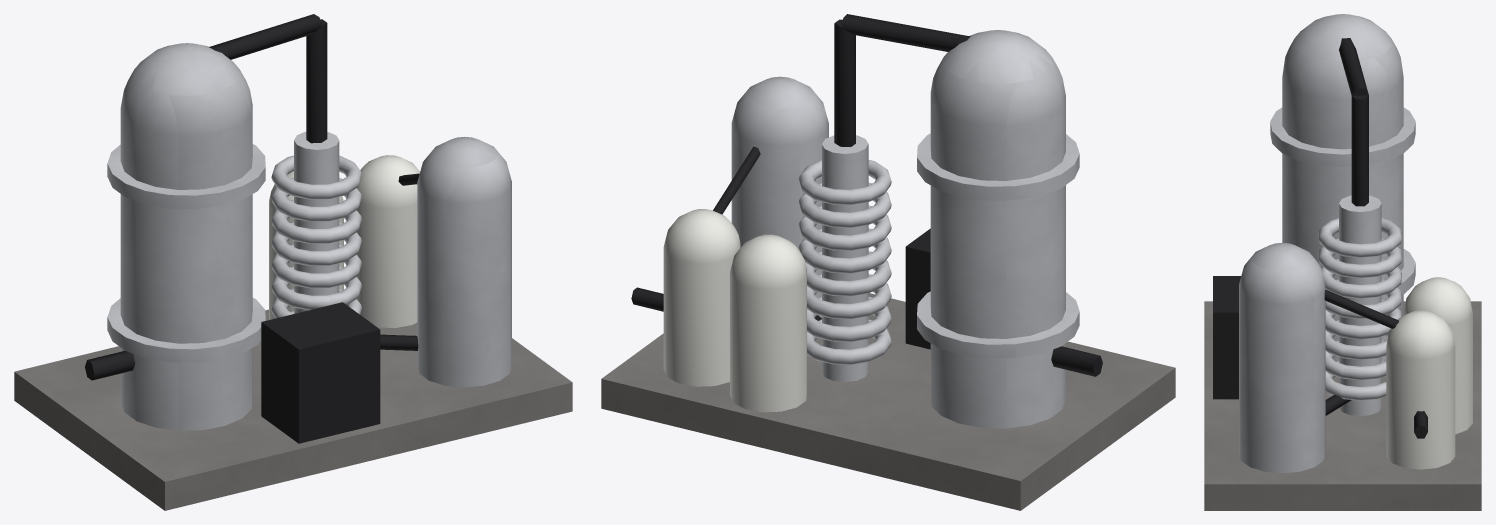
The model's file is rover08_sabatier.glb.
3 views of the same model, side by side, from view 1: azimuth 30°, elevation 25°; view 2: azimuth 150°, elevation 25°; view 3: azimuth 270°, elevation 25° (orthographic). The views are drawn at different scales.
Visible parts, largest first — view 1: reactor, skid, separator, pipework_controls, heat_exchanger, product_bottles; view 2: reactor, skid, product_bottles, heat_exchanger, separator, pipework_controls; view 3: reactor, skid, separator, product_bottles, heat_exchanger, pipework_controls.
Part boxes in pixels (x1,y1,x2,y2): reactor: (107, 43, 265, 430); skid: (14, 309, 572, 510); separator: (417, 136, 511, 387); pipework_controls: (85, 14, 419, 443); heat_exchanger: (271, 131, 361, 318); product_bottles: (269, 155, 419, 327); reactor: (917, 30, 1079, 428); skid: (601, 293, 1175, 510); product_bottles: (663, 209, 806, 412); heat_exchanger: (798, 135, 891, 381); separator: (731, 76, 828, 317); pipework_controls: (631, 14, 1102, 376); reactor: (1270, 14, 1415, 361); skid: (1204, 301, 1481, 510); separator: (1239, 242, 1325, 473); product_bottles: (1386, 277, 1472, 469); heat_exchanger: (1318, 195, 1401, 416); pipework_controls: (1213, 38, 1427, 438).
Bounding box in the file's own units: 2.5 × 2.24 × 1.6.
4 materials, 2 textured.
